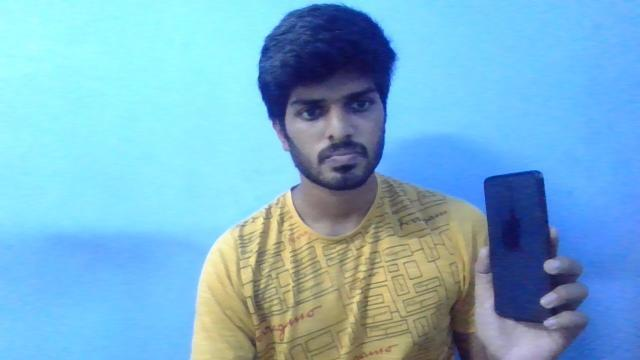PhoneUse: (482, 168, 560, 324)
SafeDriving: (340, 88, 382, 119), (288, 97, 334, 124)
